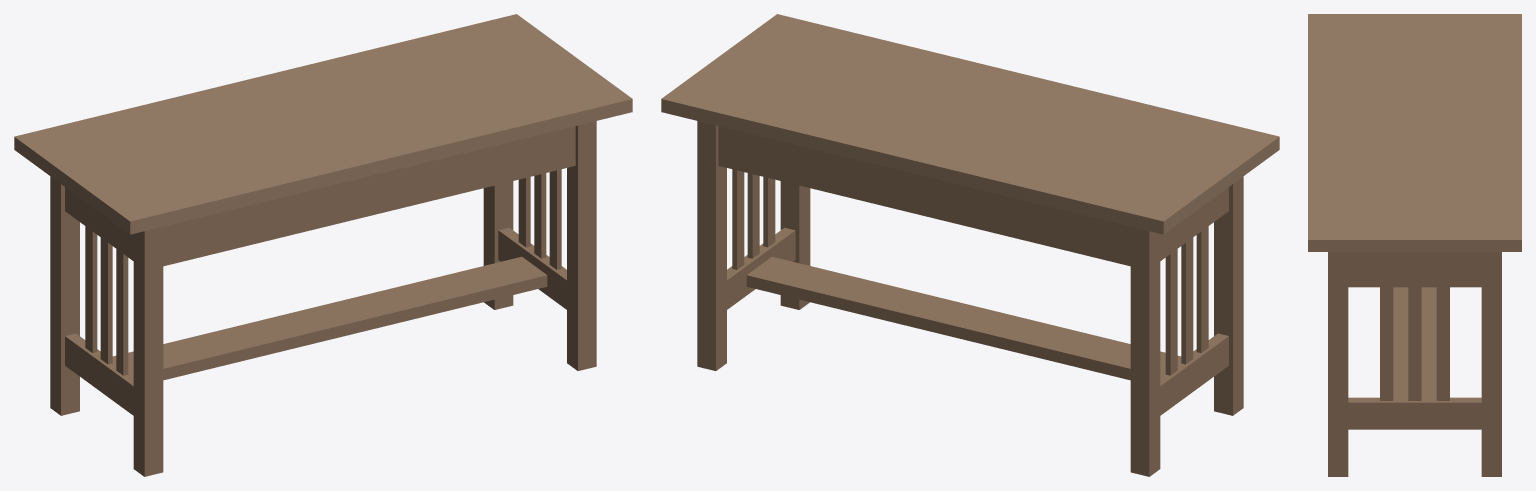
The picture shows the model from 3 angles, left to right: view 1: azimuth 30°, elevation 25°; view 2: azimuth 150°, elevation 25°; view 3: azimuth 270°, elevation 25°; orthographic projection. The views are drawn at different scales.
Visible parts, largest first — view 1: Top, RailSide_2, Stretcher, Post_4, Post_2, Post_3, RailLower_2, Post_1, RailLower_1, RailEnd_2, Slat_5, Slat_6 (+4 smaller); view 2: Top, RailSide_1, Stretcher, Post_3, Post_1, Post_4, RailLower_2, Post_2, RailLower_1, RailEnd_2, Slat_5, Slat_4 (+4 smaller); view 3: Top, RailEnd_1, Post_1, Post_2, RailLower_1, Stretcher, Slat_1, Slat_2, Slat_3.
Boxes of the visible parts, x1=… form: Top: x1=14, y1=14, x2=632, y2=234; RailSide_2: x1=163, y1=126, x2=575, y2=266; Stretcher: x1=112, y1=256, x2=547, y2=380; Post_4: x1=133, y1=227, x2=163, y2=476; Post_2: x1=567, y1=121, x2=596, y2=370; Post_3: x1=50, y1=176, x2=79, y2=415; RailLower_2: x1=65, y1=333, x2=133, y2=415; Post_1: x1=483, y1=181, x2=513, y2=309; RailLower_1: x1=498, y1=227, x2=566, y2=309; RailEnd_2: x1=65, y1=187, x2=133, y2=260; Slat_5: x1=100, y1=237, x2=112, y2=364; Slat_6: x1=116, y1=249, x2=128, y2=375; Top: x1=661, y1=14, x2=1279, y2=234; RailSide_1: x1=718, y1=126, x2=1130, y2=266; Stretcher: x1=746, y1=256, x2=1181, y2=380; Post_3: x1=1130, y1=227, x2=1160, y2=476; Post_1: x1=697, y1=121, x2=726, y2=370; Post_4: x1=1214, y1=176, x2=1243, y2=415; RailLower_2: x1=1160, y1=333, x2=1228, y2=415; Post_2: x1=780, y1=181, x2=810, y2=309; RailLower_1: x1=727, y1=227, x2=795, y2=309; RailEnd_2: x1=1160, y1=187, x2=1228, y2=260; Slat_5: x1=1181, y1=237, x2=1193, y2=364; Slat_4: x1=1165, y1=249, x2=1177, y2=375; Top: x1=1308, y1=14, x2=1521, y2=251; RailEnd_1: x1=1348, y1=252, x2=1481, y2=287; Post_1: x1=1481, y1=252, x2=1501, y2=476; Post_2: x1=1328, y1=252, x2=1348, y2=476; RailLower_1: x1=1348, y1=397, x2=1481, y2=429; Stretcher: x1=1393, y1=287, x2=1436, y2=397; Slat_1: x1=1436, y1=287, x2=1449, y2=400; Slat_2: x1=1408, y1=287, x2=1421, y2=400; Slat_3: x1=1380, y1=287, x2=1393, y2=400.
Size of the model in its own units: 1.02 by 0.5207 by 0.4064.
